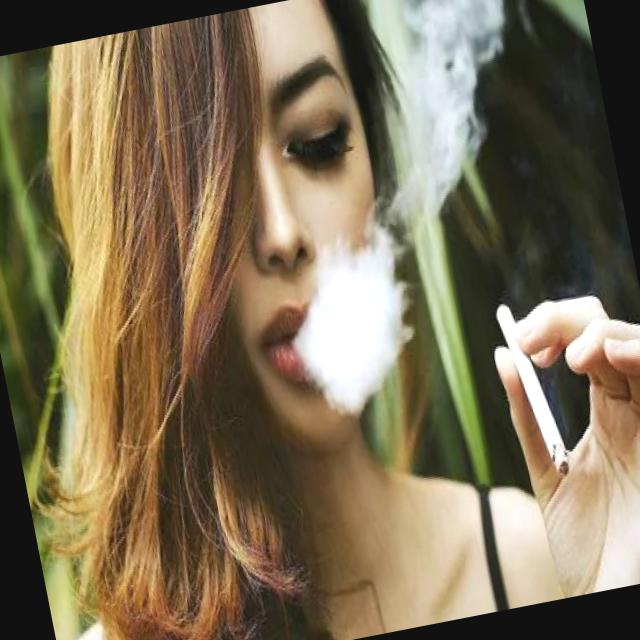smoke: (493, 292, 574, 483)
